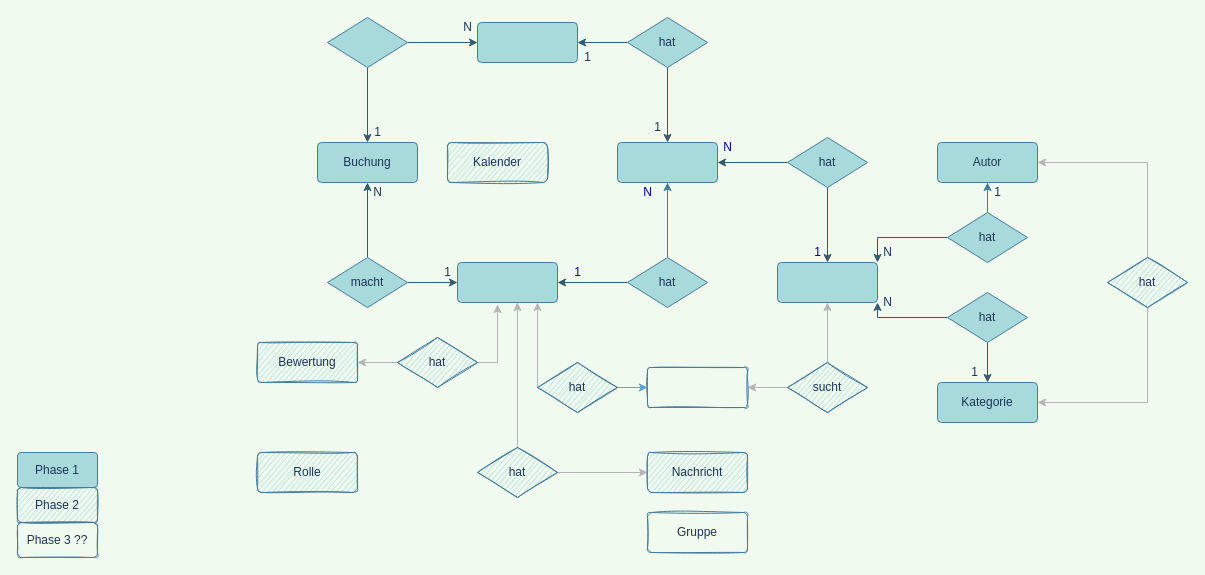
Some shapes in this 1205 by 575 pixel diagram are drawn without their labels. Here are the shapes that lost their labels. From the top down, the box of each, then its label:
(326, 16, 408, 68): ändert
(476, 22, 578, 62): Buchungsstatus
(616, 142, 718, 182): Item (Buch) [ Pivot : title_user]
(456, 262, 558, 302): User
(776, 262, 878, 302): Titel
(646, 366, 748, 408): Wunschliste/ Anfrage
